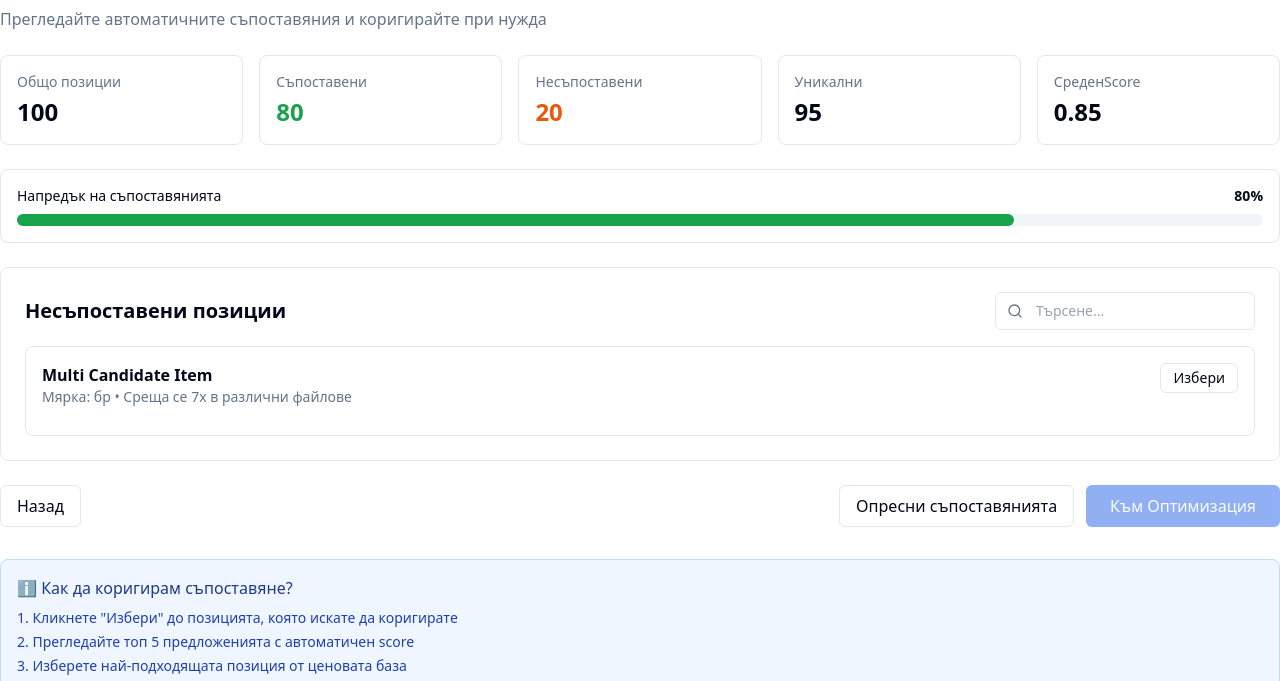
MatchPage › shows multiple top candidates for a single item
Expected: the heading "Multi Candidate Item" is shown, x1=42 y1=364 x2=212 y2=386
Click the button "Избери" at x=1199, y=378, box x1=1160 y1=363 x2=1238 y2=393
(page scrolled)
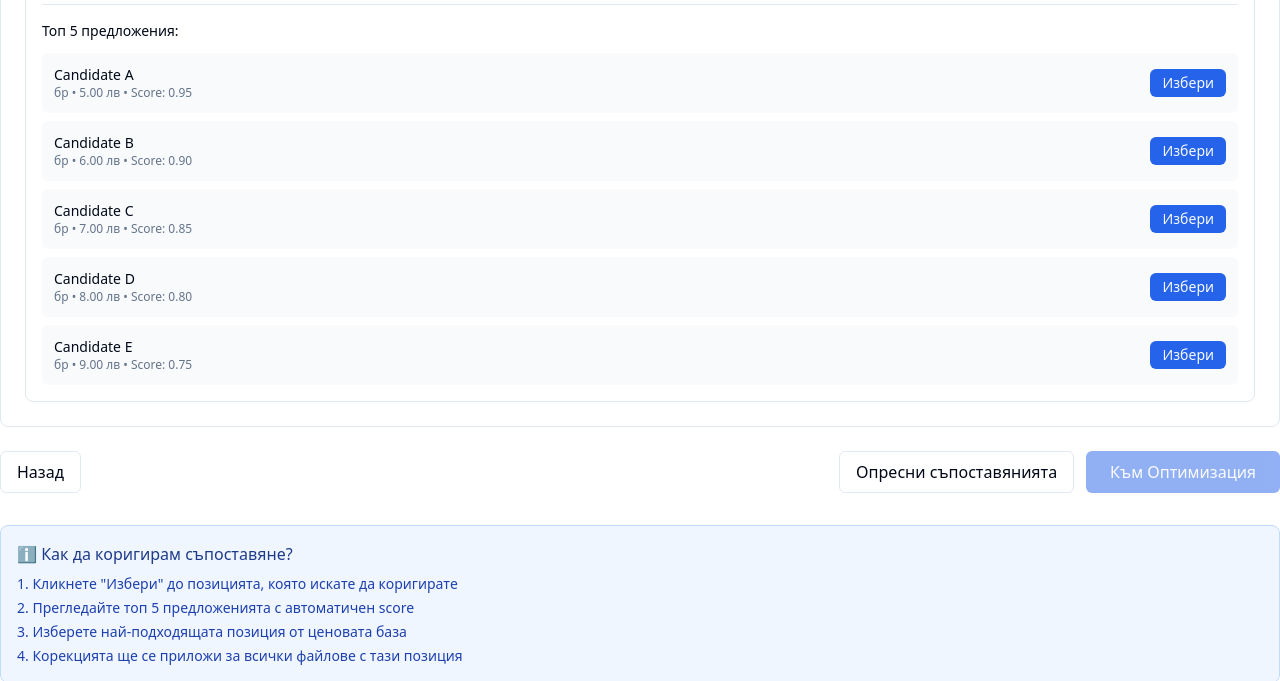
Now the text "Candidate A" is shown, box x1=54 y1=65 x2=134 y2=84
Now the text "Candidate B" is shown, box x1=54 y1=133 x2=134 y2=152
Now the text "Candidate C" is shown, box x1=54 y1=201 x2=134 y2=220
